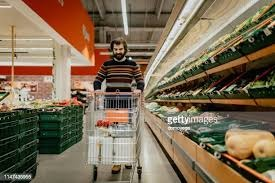with_basket: (88, 89, 145, 180)
without_mask: (112, 38, 126, 60)
